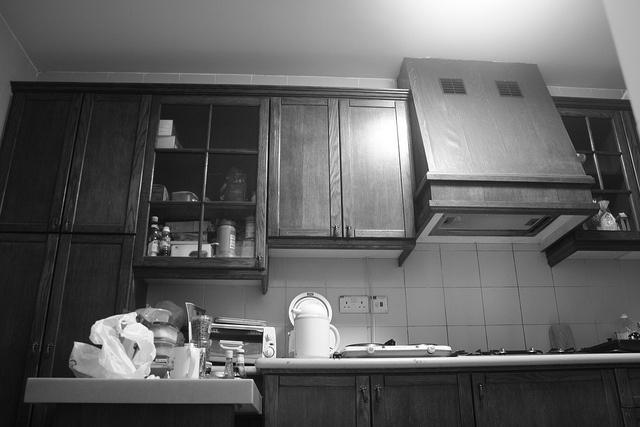Lemari: (0, 78, 152, 378), (268, 83, 417, 252)
